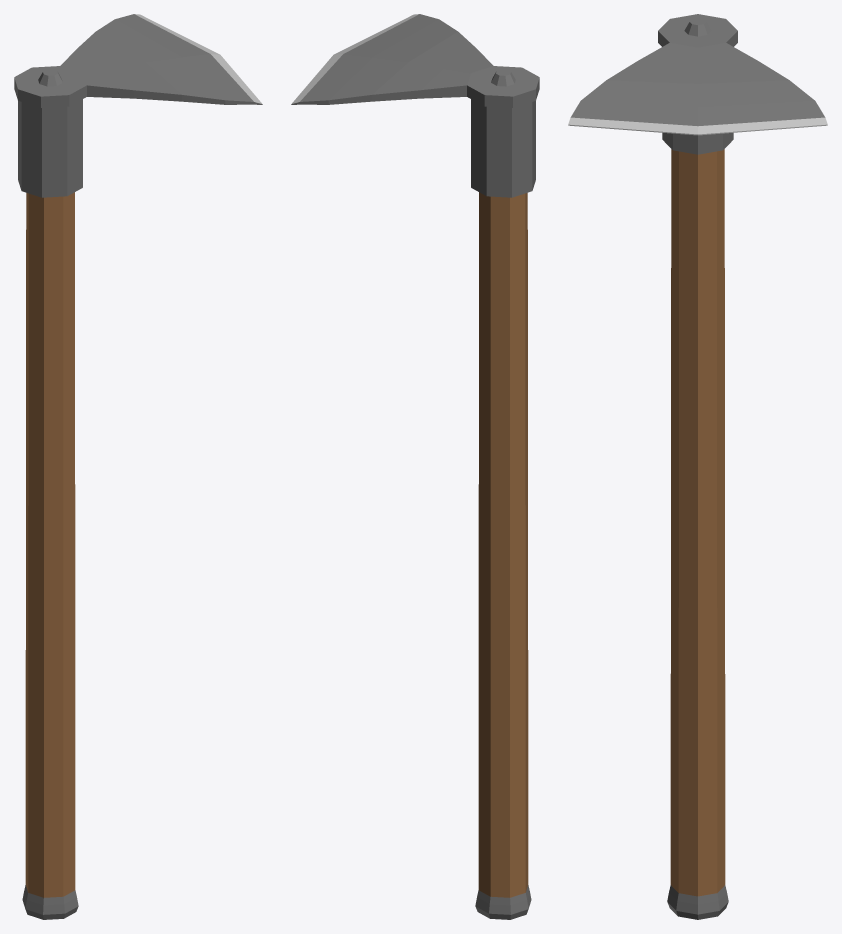
Rendered from hoe.fbx.
The picture shows the model from 3 angles, left to right: view 1: azimuth 30°, elevation 25°; view 2: azimuth 150°, elevation 25°; view 3: azimuth 270°, elevation 25°; orthographic projection. The views are drawn at different scales.
Parts seen in each view (by area): view 1: Hoe; view 2: Hoe; view 3: Hoe.
Part boxes in pixels (<box>): Hoe: <box>14,14,262,919</box>; Hoe: <box>291,14,539,919</box>; Hoe: <box>568,14,827,919</box>.
Size of the model in its own units: 62.7 by 249 by 65.69.
